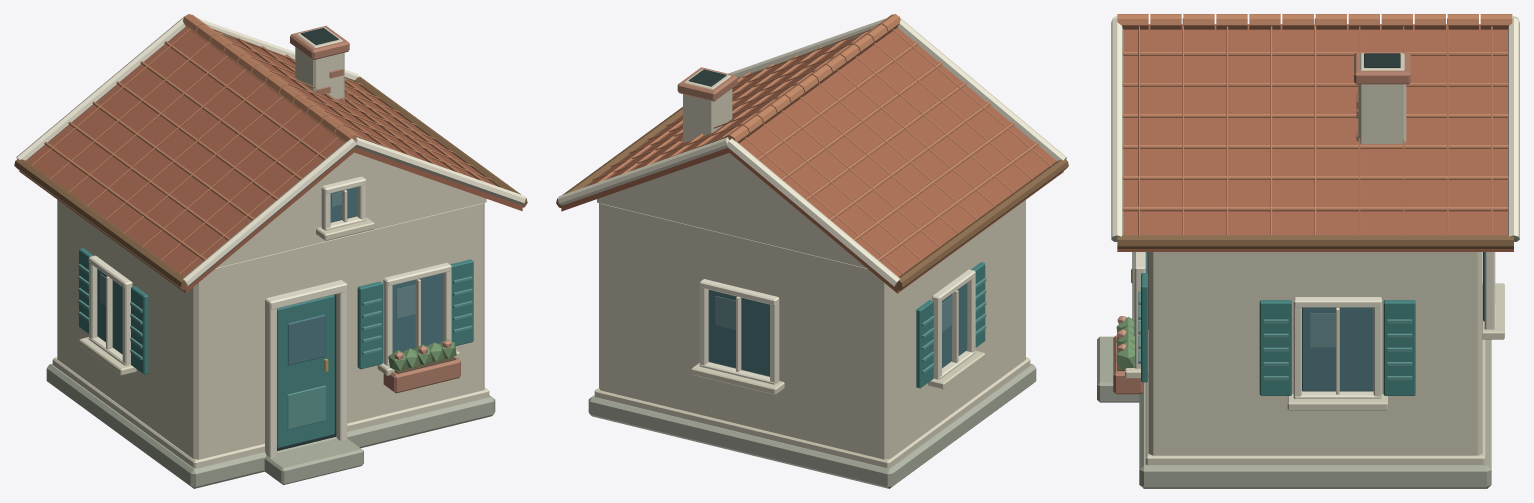
Rendered from house_fisher_cottage.glb.
The picture shows the model from 3 angles, left to right: view 1: azimuth 30°, elevation 25°; view 2: azimuth 150°, elevation 25°; view 3: azimuth 270°, elevation 25°; orthographic projection. The views are drawn at different scales.
Parts seen in each view (by area): view 1: house_fisher_cottage; view 2: house_fisher_cottage; view 3: house_fisher_cottage.
Boxes of the visible parts, x1=… form: house_fisher_cottage: x1=14, y1=14, x2=527, y2=488; house_fisher_cottage: x1=556, y1=14, x2=1068, y2=488; house_fisher_cottage: x1=1097, y1=14, x2=1519, y2=488.
Size of the model in its own units: 4.29 by 3.84 by 3.79.
